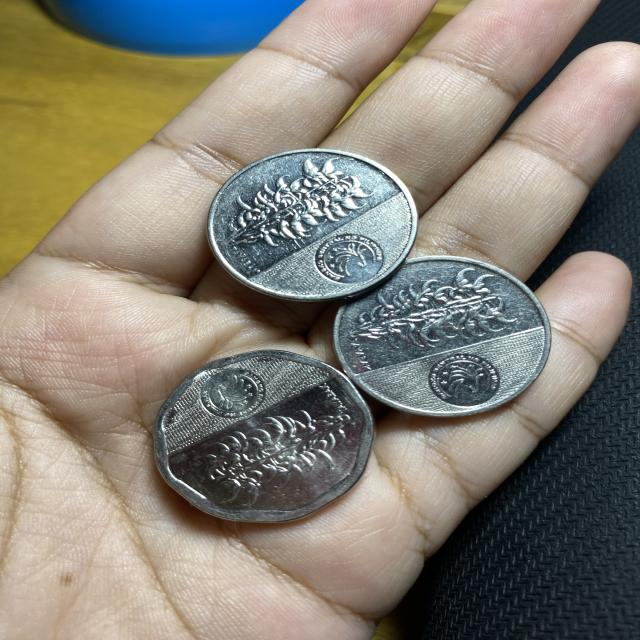5_New_Back: (185, 416, 364, 503), (359, 274, 514, 342), (243, 162, 360, 250)
